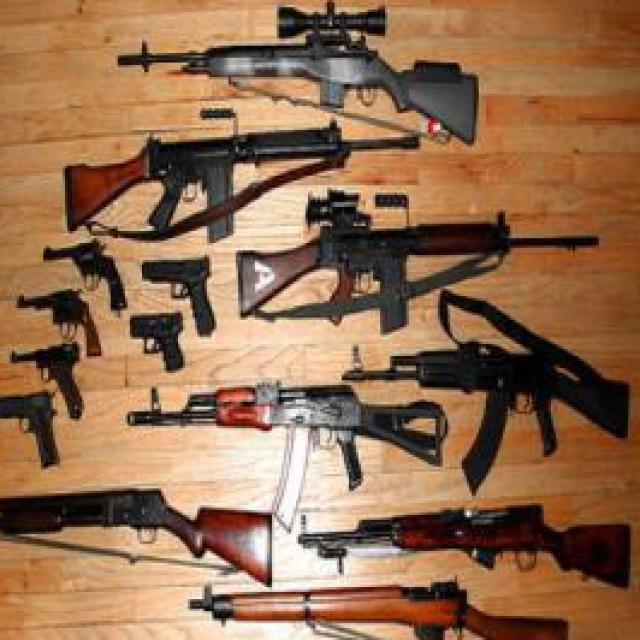pistol: (41, 236, 127, 314), (140, 255, 217, 338), (13, 289, 104, 356), (17, 339, 84, 419), (0, 390, 63, 464), (126, 313, 186, 373)
